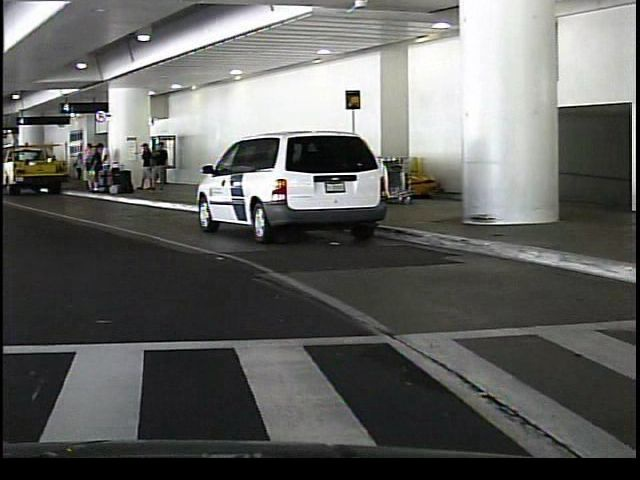person: (151, 139, 167, 192), (78, 140, 93, 192)
